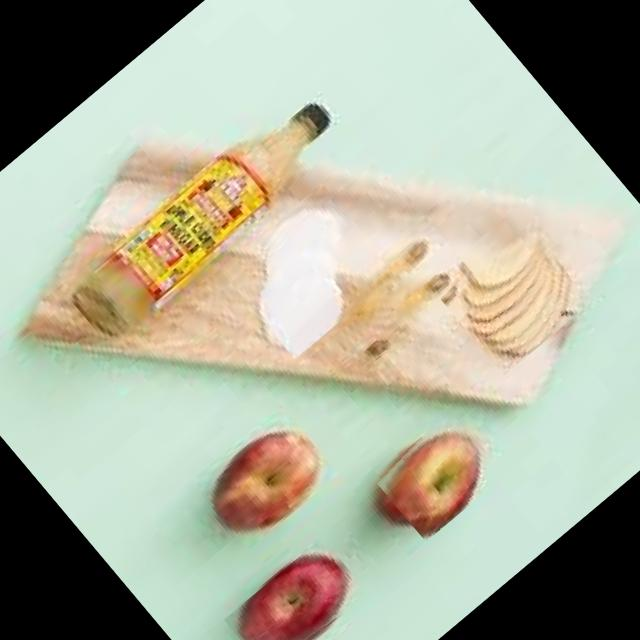Organic: (430, 197, 611, 375), (224, 194, 391, 359), (198, 411, 342, 548), (369, 406, 508, 542), (223, 538, 366, 640), (392, 232, 438, 276), (418, 270, 452, 300), (362, 337, 391, 365)
